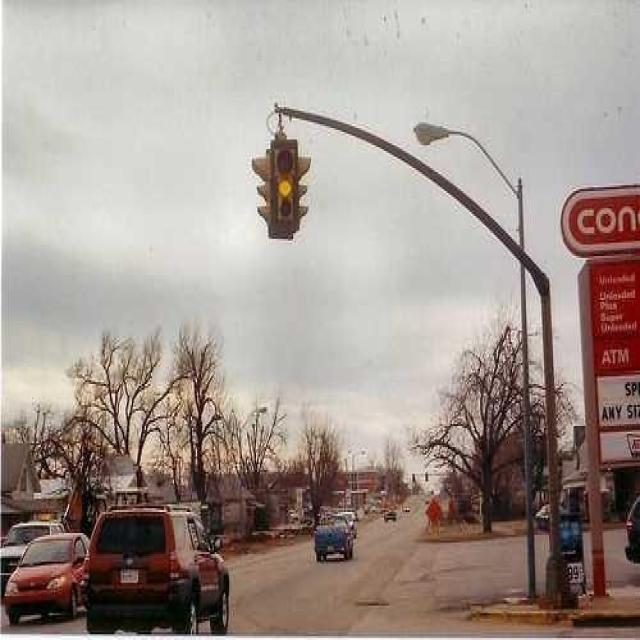Traffic Light -Yellow-: (260, 128, 308, 246)
